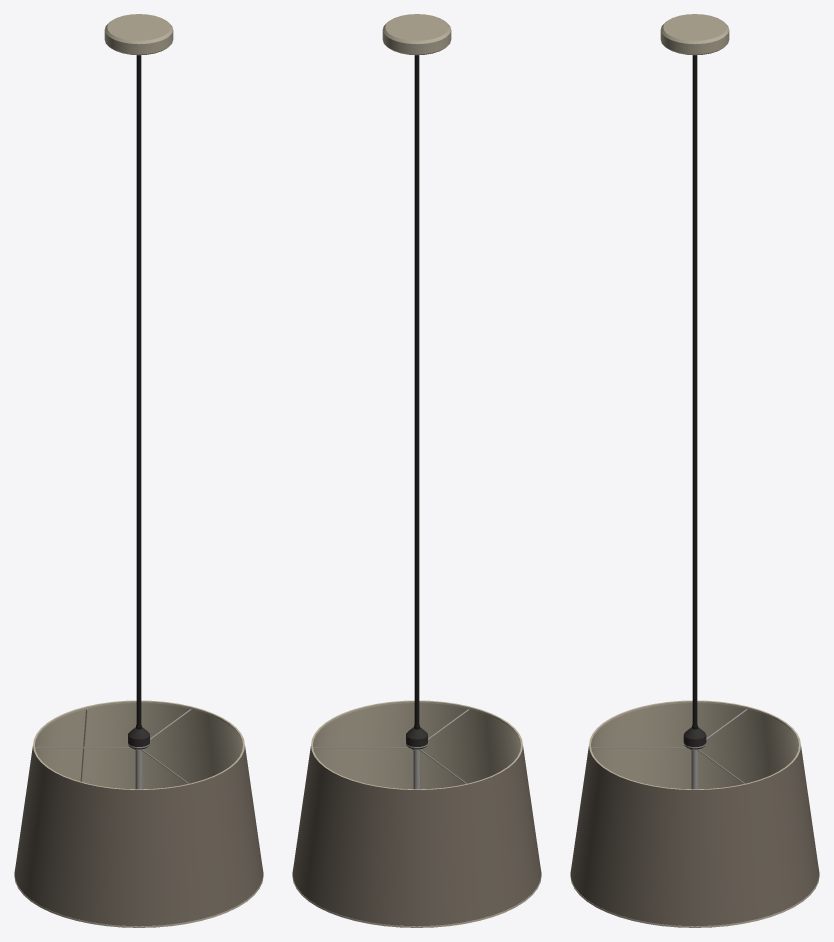
The model's file is ceiling-pendant-shade-ea24c8294aeb.glb.
The picture shows the model from 3 angles, left to right: view 1: azimuth 30°, elevation 25°; view 2: azimuth 150°, elevation 25°; view 3: azimuth 270°, elevation 25°; orthographic projection.
Parts seen in each view (by area): view 1: cover-cloth, cloth-cream, rubber, plastic-light, brushed; view 2: cover-cloth, cloth-cream, rubber, plastic-light, brushed; view 3: cover-cloth, cloth-cream, rubber, plastic-light, brushed.
Part boxes in pixels (left/top/right/bottom): cover-cloth: left=14, top=746, right=263, bottom=927; cloth-cream: left=14, top=700, right=263, bottom=927; rubber: left=136, top=55, right=141, bottom=729; plastic-light: left=104, top=14, right=173, bottom=55; brushed: left=35, top=709, right=191, bottom=789; cover-cloth: left=292, top=746, right=541, bottom=927; cloth-cream: left=292, top=700, right=541, bottom=927; rubber: left=414, top=55, right=419, bottom=729; plastic-light: left=382, top=14, right=451, bottom=55; brushed: left=313, top=709, right=469, bottom=789; cover-cloth: left=570, top=746, right=819, bottom=927; cloth-cream: left=570, top=700, right=819, bottom=927; rubber: left=692, top=55, right=697, bottom=729; plastic-light: left=660, top=14, right=729, bottom=55; brushed: left=591, top=709, right=747, bottom=789.
Size of the model in its own units: 0.4001 by 1.5 by 0.4001.
